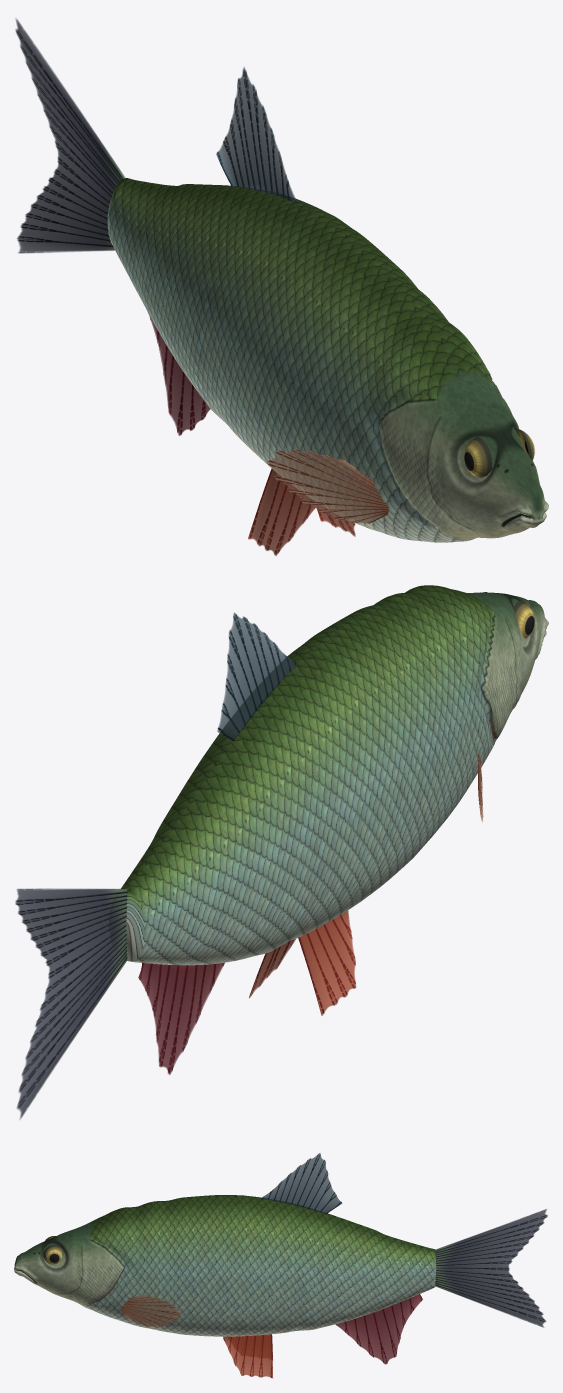
Rendered from jaz.glb.
3 renders of one model, top to bottom at view 1: azimuth 30°, elevation 25°; view 2: azimuth 150°, elevation 25°; view 3: azimuth 270°, elevation 25°, orthographic. The views are drawn at different scales.
Visible parts, largest first — view 1: Body, FinCaudal, FinPectoral, FinDorsal1, FinPelvic, FinAnal, EyeLeft; view 2: Body, FinCaudal, FinDorsal1, FinAnal, FinPelvic; view 3: Body, FinCaudal, FinAnal, FinDorsal1, FinPelvic, FinPectoral, EyeRight.
Part boxes in pixels (x1=…): Body: x1=107, y1=178, x2=548, y2=542; FinCaudal: x1=15, y1=18, x2=125, y2=253; FinPectoral: x1=266, y1=449, x2=388, y2=523; FinDorsal1: x1=216, y1=67, x2=296, y2=202; FinPelvic: x1=248, y1=468, x2=355, y2=555; FinAnal: x1=148, y1=313, x2=210, y2=435; EyeLeft: x1=464, y1=437, x2=492, y2=477; Body: x1=121, y1=585, x2=548, y2=965; FinCaudal: x1=15, y1=888, x2=127, y2=1119; FinDorsal1: x1=217, y1=612, x2=296, y2=741; FinAnal: x1=138, y1=962, x2=224, y2=1074; FinPelvic: x1=249, y1=910, x2=356, y2=1015; Body: x1=14, y1=1195, x2=436, y2=1336; FinCaudal: x1=435, y1=1209, x2=547, y2=1327; FinAnal: x1=335, y1=1294, x2=422, y2=1364; FinDorsal1: x1=262, y1=1153, x2=342, y2=1213; FinPelvic: x1=223, y1=1334, x2=272, y2=1378; FinPectoral: x1=121, y1=1295, x2=181, y2=1326; EyeRight: x1=43, y1=1245, x2=61, y2=1264.
Bounding box in the file's own units: 0.2388 × 0.45 × 0.9984.
8 materials, 7 textured.
